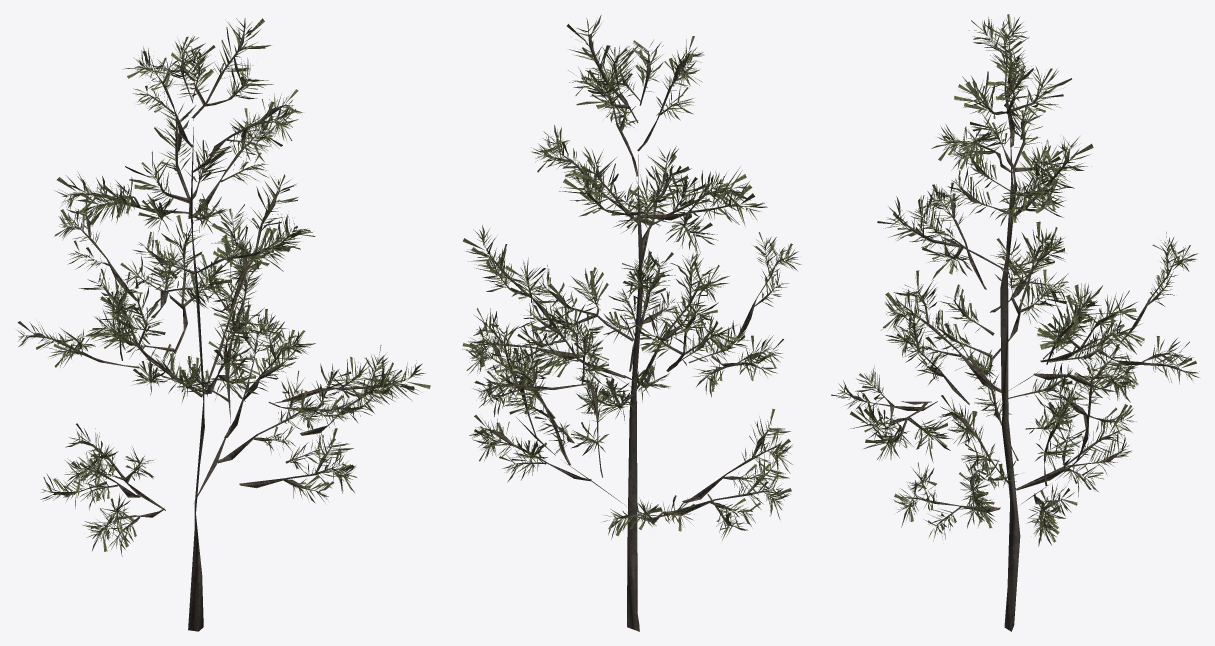
The model's file is pine-sapling.glb.
3 views of the same model, side by side, from view 1: azimuth 30°, elevation 25°; view 2: azimuth 150°, elevation 25°; view 3: azimuth 270°, elevation 25° (orthographic).
Parts seen in each view (by area): view 1: pine_sapling_small_a; view 2: pine_sapling_small_a; view 3: pine_sapling_small_a.
Boxes of the visible parts, left/top/right/bottom form: pine_sapling_small_a: left=16, top=18, right=430, bottom=631; pine_sapling_small_a: left=462, top=15, right=800, bottom=631; pine_sapling_small_a: left=831, top=14, right=1199, bottom=631.
Size of the model in its own units: 0.7858 by 1.3 by 0.7262.
Materials: 2 (2 with a texture image).
